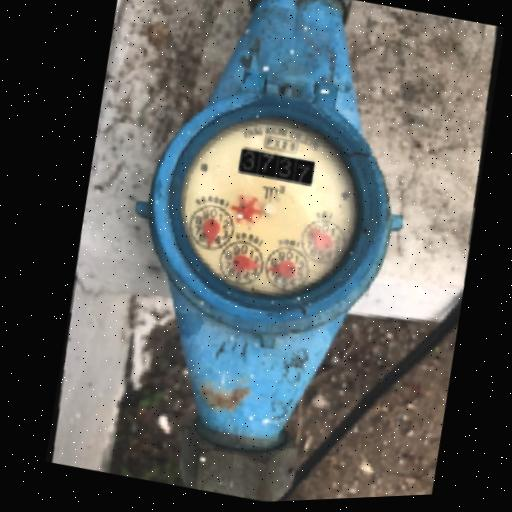3: (237, 148, 262, 176), (274, 155, 298, 182)
7: (292, 159, 317, 186), (256, 152, 280, 179)
border_water_meter_number: (236, 145, 317, 189)
